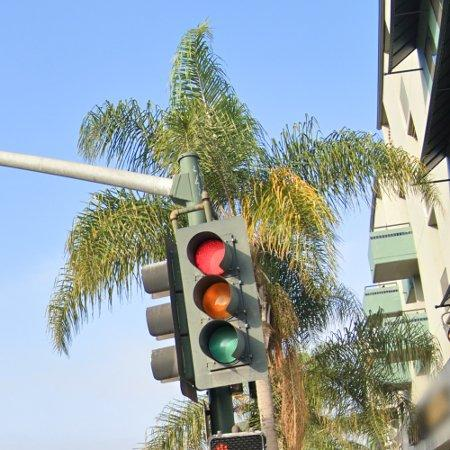traffic lights: (176, 217, 268, 391)
